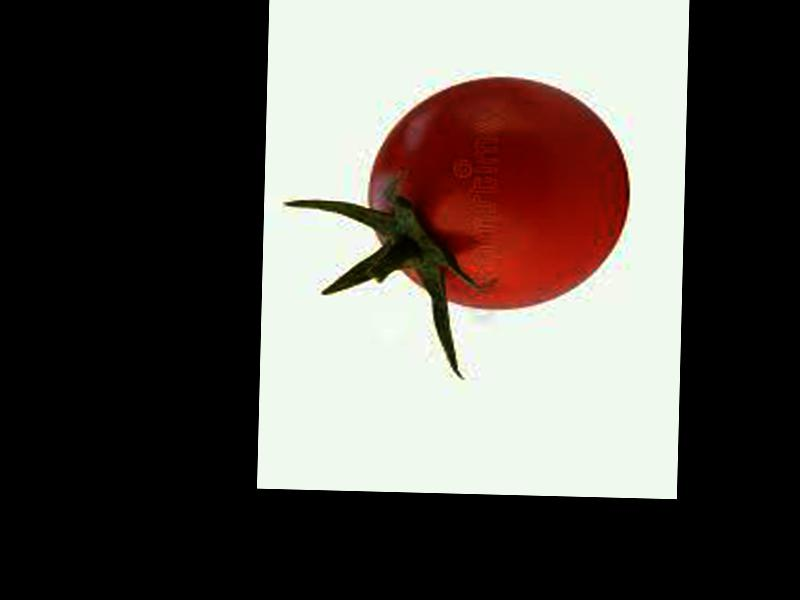Tomato: (367, 73, 632, 310)
